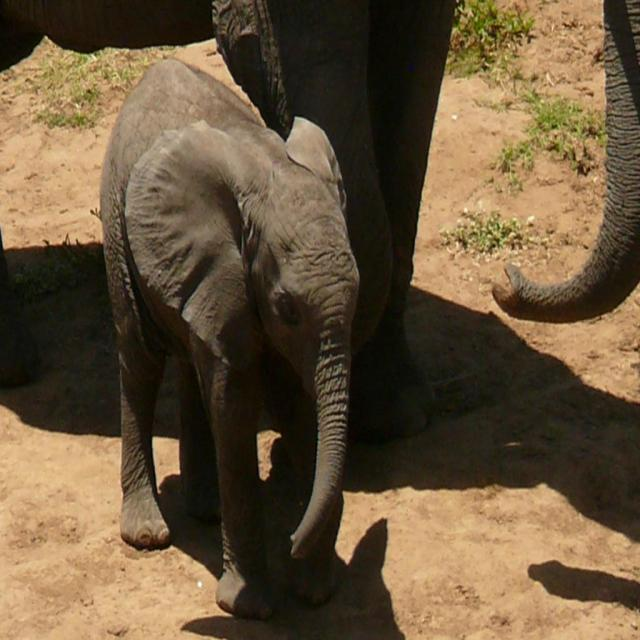Elephant: (103, 66, 376, 618)
